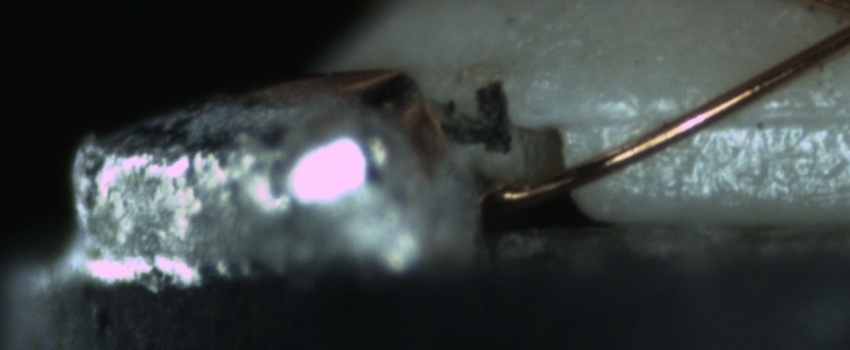DL: (603, 80, 847, 150)
